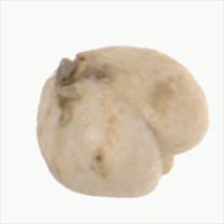L1: (147, 131, 205, 192), (43, 49, 101, 84)
L2: (35, 44, 209, 198)
